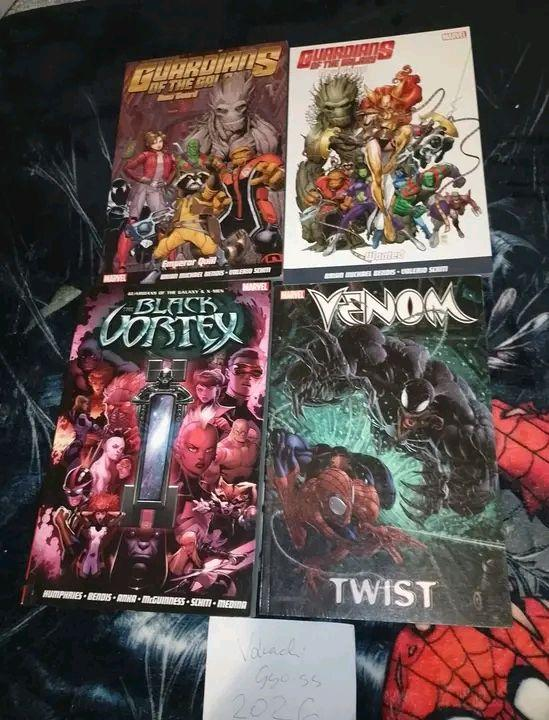comic: (260, 273, 517, 626), (22, 267, 273, 618), (274, 27, 491, 283), (102, 37, 288, 287)
